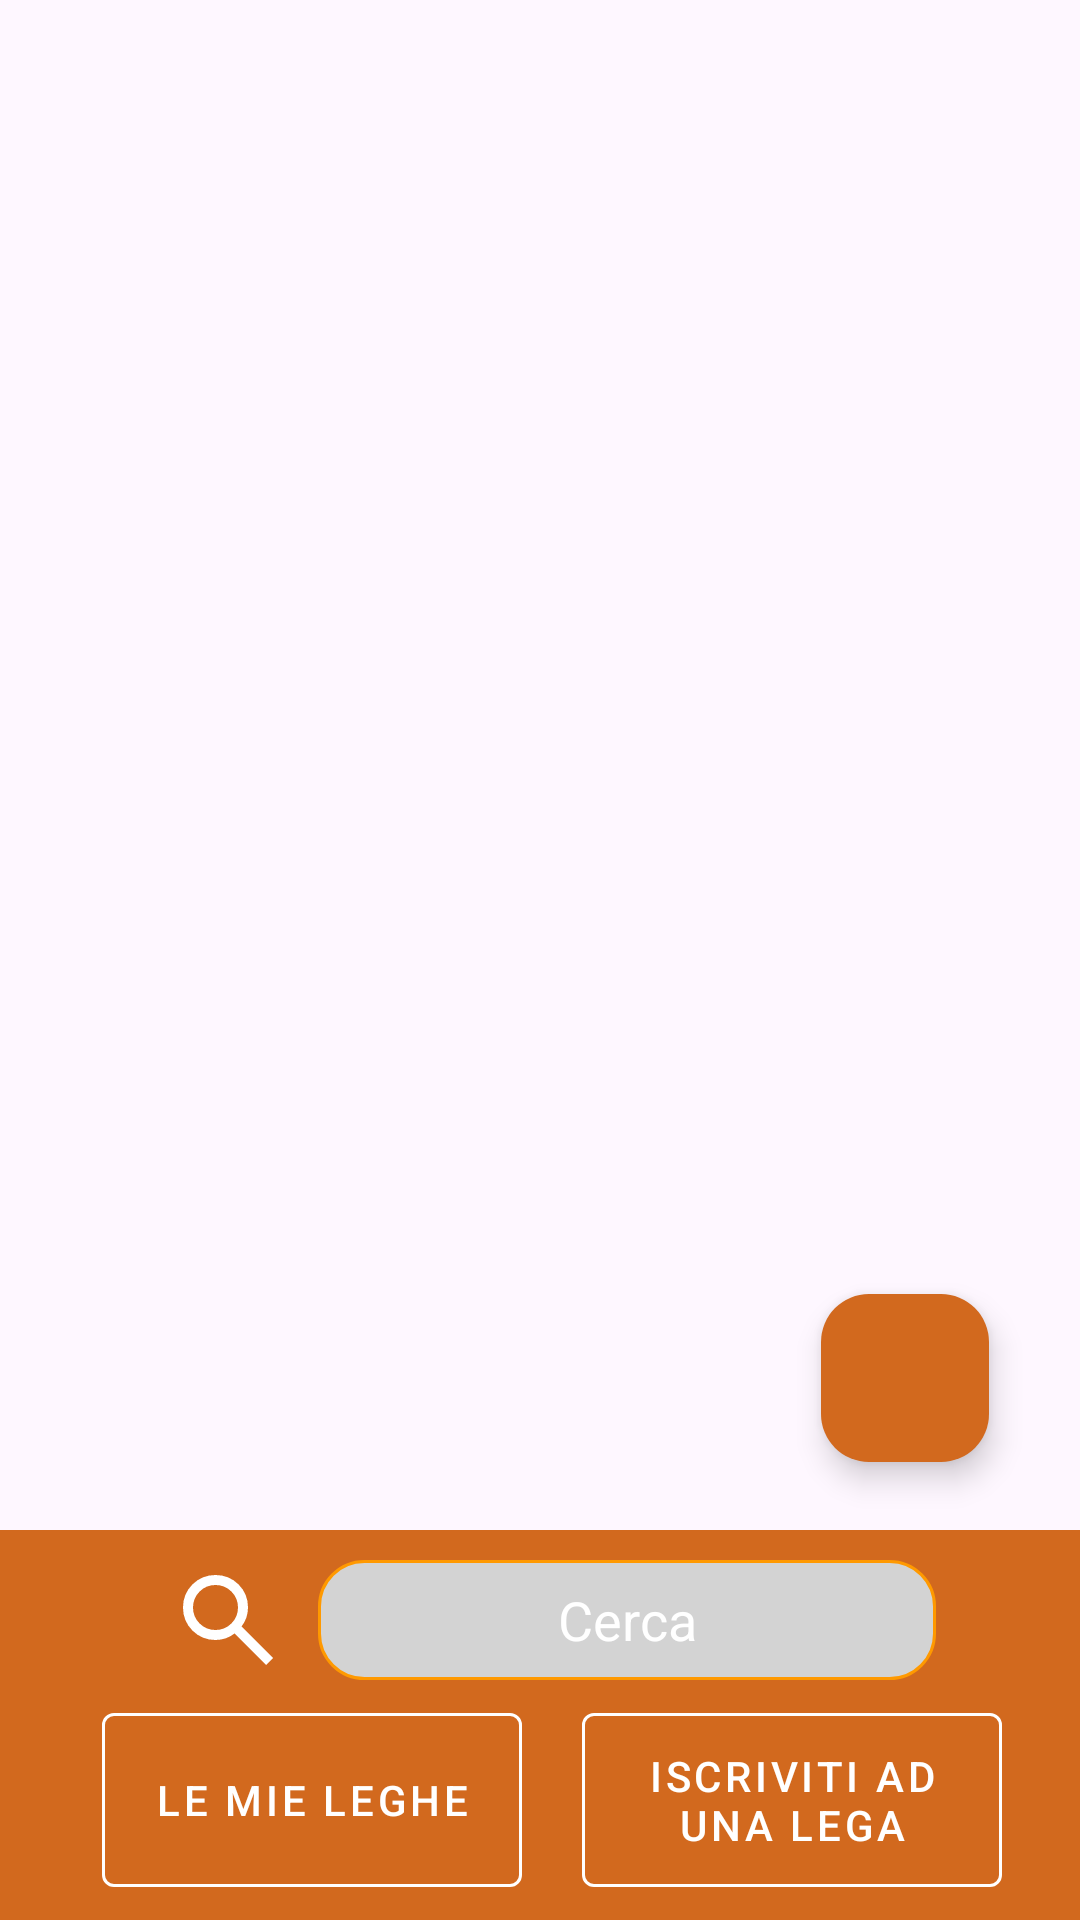

Named icons in this screenshot (1080px×1920px) and their centers, [x,y]:
symbols search: [228,1620]
